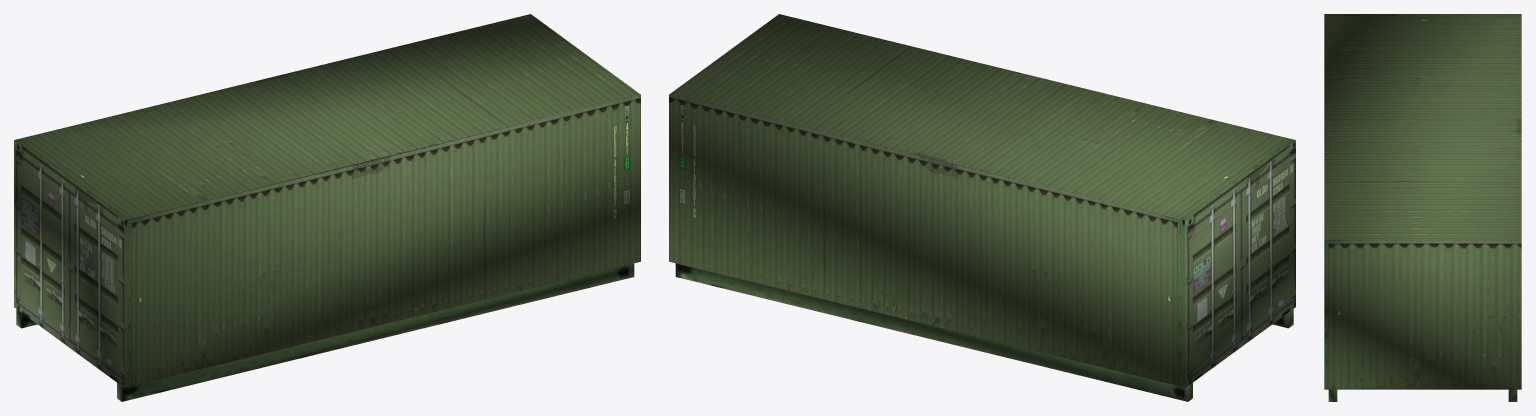
Rendered from Container.fbx.
3 renders of one model, left to right at view 1: azimuth 30°, elevation 25°; view 2: azimuth 150°, elevation 25°; view 3: azimuth 270°, elevation 25°, orthographic. The views are drawn at different scales.
Visible parts, largest first — view 1: container green closed; view 2: container green closed; view 3: container green closed.
Part boxes in pixels (bbox=[...]): container green closed: bbox=[14, 14, 640, 401]; container green closed: bbox=[669, 14, 1295, 401]; container green closed: bbox=[1324, 14, 1521, 401].
Bounding box in the file's own units: 806 × 273 × 298.
1 material, 1 textured.
